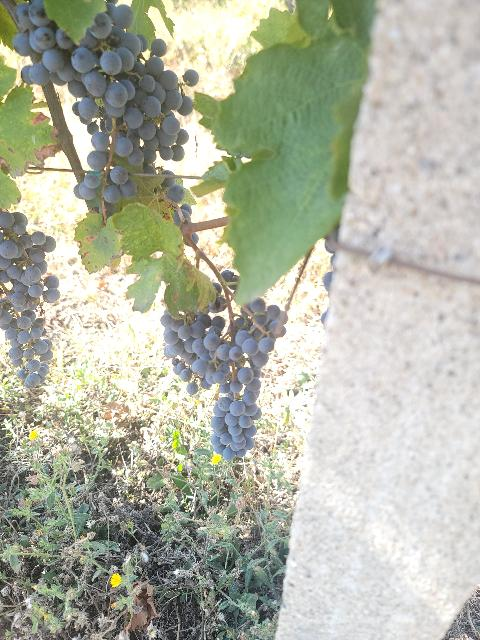grapes: (12, 0, 199, 161), (210, 298, 288, 461), (0, 211, 60, 310), (0, 291, 52, 389), (160, 310, 215, 395)
